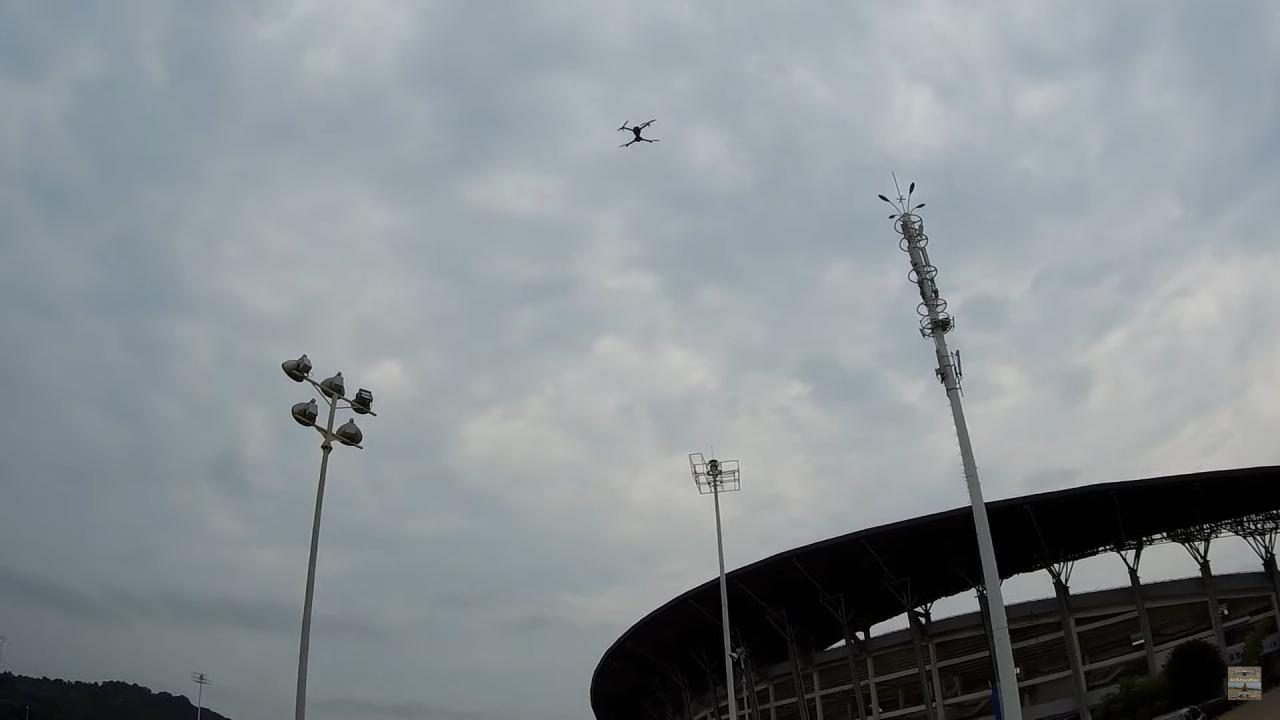Drone: (610, 112, 666, 154)
